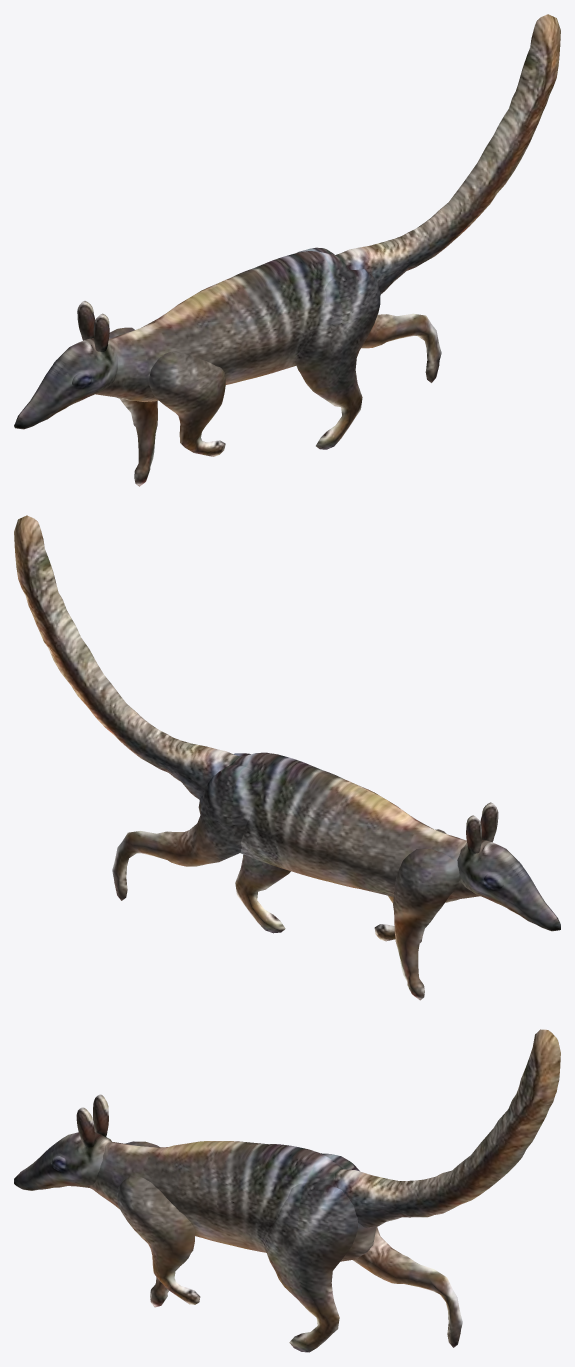
The model's file is numbat.gltf.
The picture shows the model from 3 angles, top to bottom: view 1: azimuth 30°, elevation 25°; view 2: azimuth 150°, elevation 25°; view 3: azimuth 330°, elevation 25°; orthographic projection.
Visible parts, largest first — view 1: Object_2; view 2: Object_2; view 3: Object_2.
Boxes of the visible parts, x1,y1,x2,y2 form: Object_2: (14, 14, 560, 486); Object_2: (14, 515, 560, 1000); Object_2: (14, 1029, 560, 1352).
Size of the model in its own units: 1.81 by 1.21 by 0.2707.
Materials: 1 (1 with a texture image).
